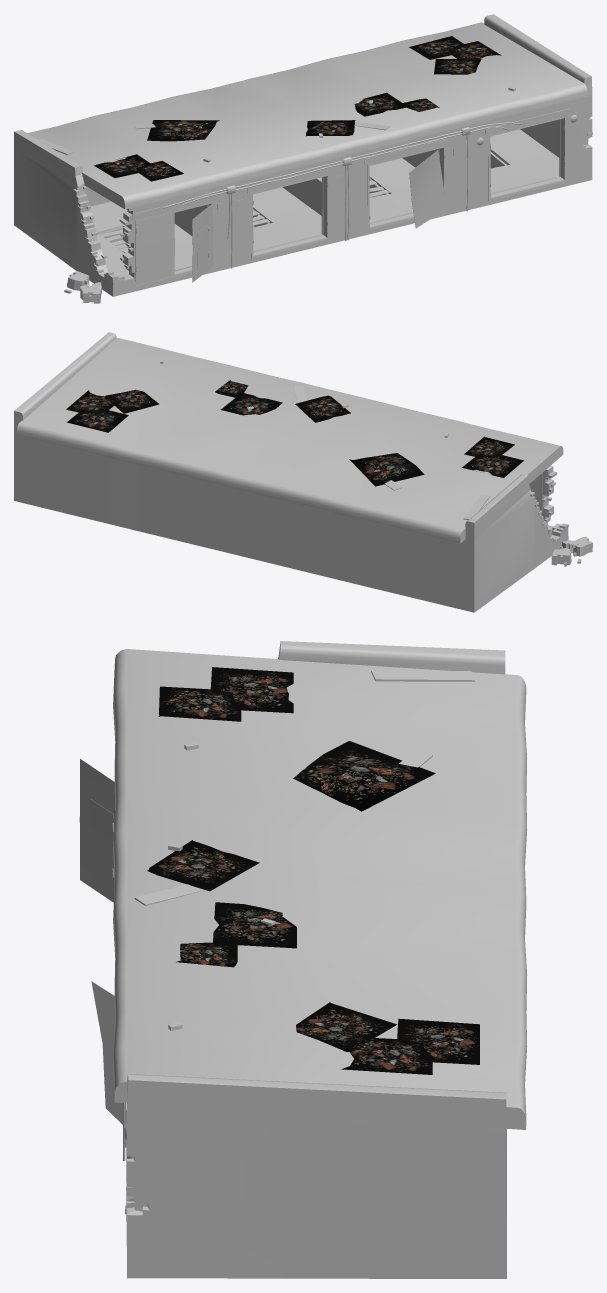
Rendered from Brick_garage.FBX.
3 views of the same model, one above another, from view 1: azimuth 30°, elevation 25°; view 2: azimuth 150°, elevation 25°; view 3: azimuth 270°, elevation 25° (orthographic). The views are drawn at different scales.
Parts seen in each view (by area): view 1: Wall13, Roof, decals_group, Gate_L, Gate_R01, Gate_R, Decal_brick; view 2: Roof, Wall13, decals_group, Decal_brick; view 3: Roof, Wall13, decals_group, Decal_brick, Gate_R, Gate_R01.
Part boxes in pixels (left/top/right/bottom): Wall13: left=14, top=93, right=592, bottom=303; Roof: left=14, top=14, right=592, bottom=209; decals_group: left=94, top=36, right=501, bottom=181; Gate_L: left=136, top=212, right=174, bottom=284; Gate_R01: left=409, top=150, right=446, bottom=228; Gate_R: left=192, top=203, right=213, bottom=282; Decal_brick: left=147, top=120, right=219, bottom=141; Roof: left=14, top=332, right=563, bottom=543; Wall13: left=14, top=428, right=592, bottom=612; decals_group: left=66, top=380, right=523, bottom=477; Decal_brick: left=349, top=453, right=424, bottom=486; Roof: left=113, top=641, right=527, bottom=1134; Wall13: left=123, top=1103, right=506, bottom=1278; decals_group: left=147, top=667, right=479, bottom=1074; Decal_brick: left=293, top=741, right=435, bottom=811; Gate_R: left=79, top=758, right=115, bottom=902; Gate_R01: left=91, top=981, right=126, bottom=1127.
Bounding box in the file's own units: 17.25 × 3.8 × 6.83.
